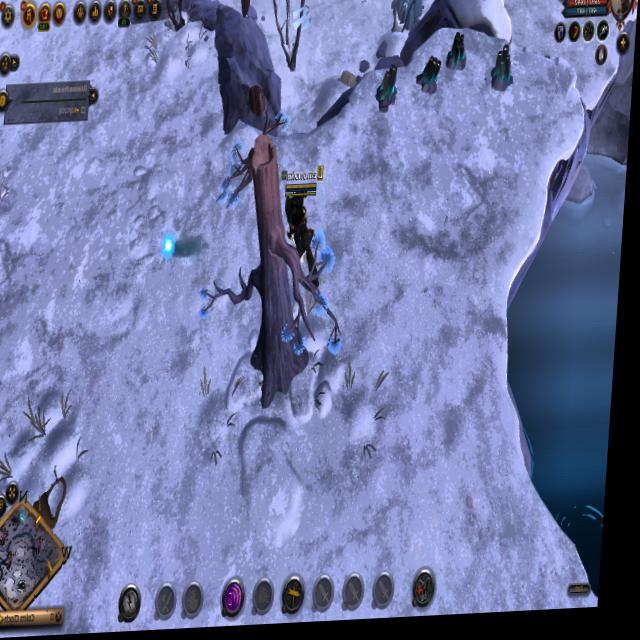ore tier 4: (489, 48, 518, 100), (375, 68, 402, 120), (415, 58, 444, 103), (445, 36, 470, 79)
